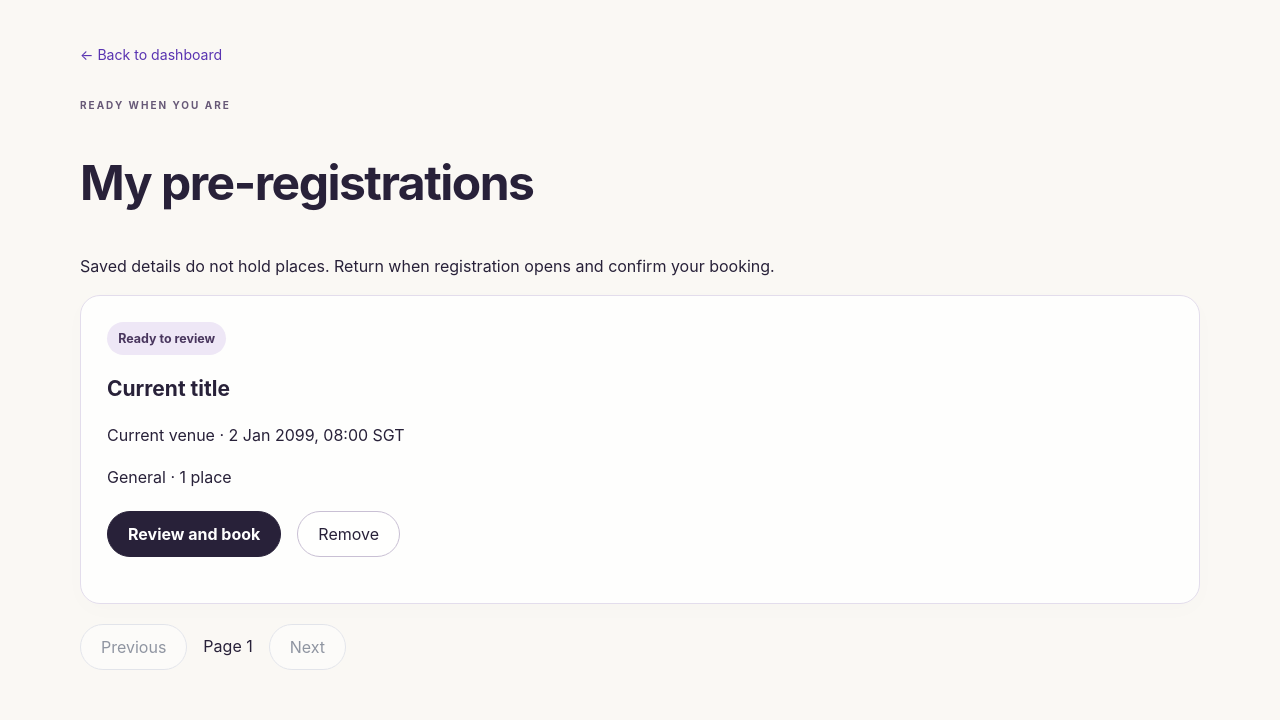
Test case: preserves a pre-registration when removal fails and permits retry
Check: the heading "Current title" is shown, box [107,376,230,401]
Step 1. Click the button "Remove" → (349, 534), box [297,511,400,557]
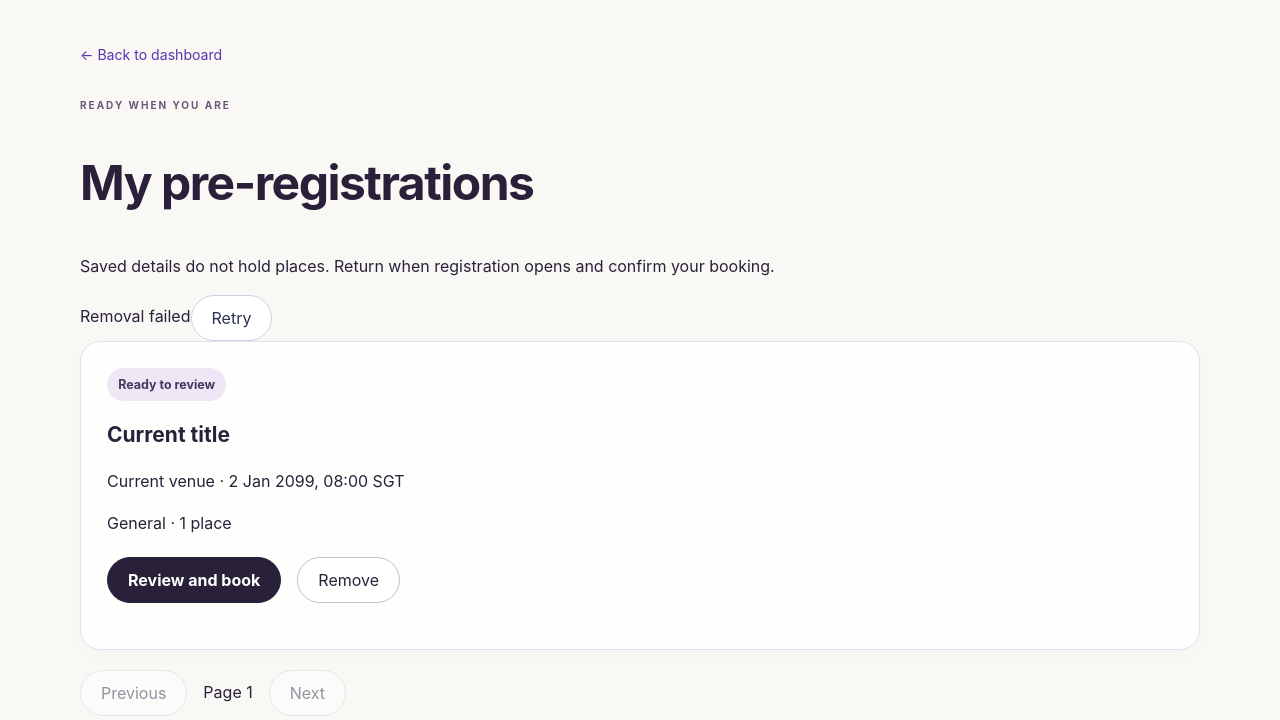
Check: the heading "Current title" is shown, box [107,422,230,447]
Check: the message "Removal failed Retry" is shown, box [80,295,272,341]
Step 2. Click the button "Remove" → (349, 580), box [297,557,400,603]
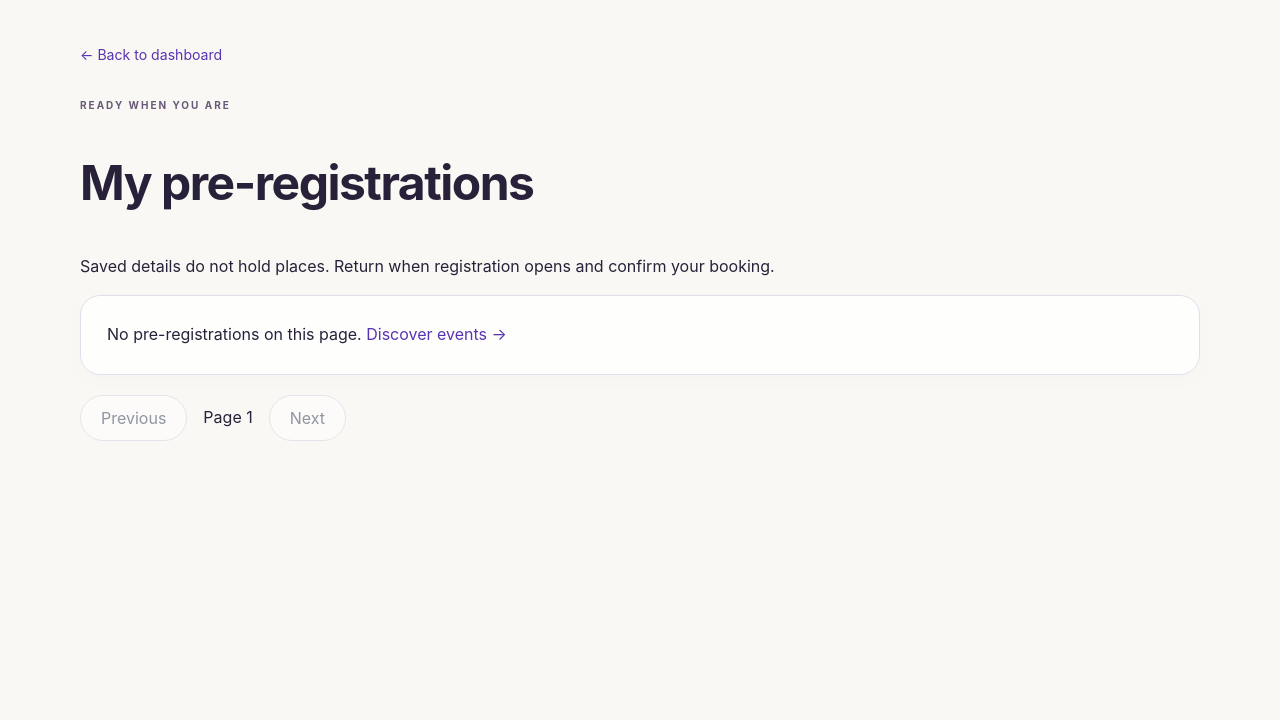
Check: the text "No pre-registrations on this page. Discover events →" is shown, box [80,295,1200,375]
Check: the message "Removal failed Retry" is gone
